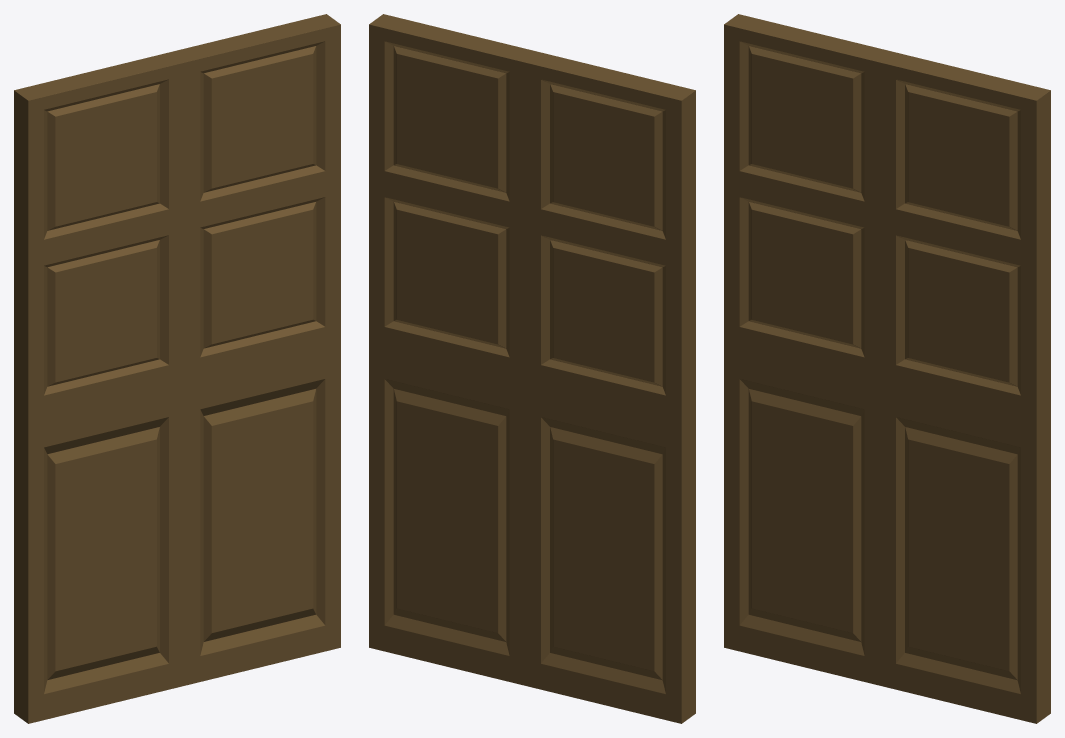
File: door_exportprep.gltf
3 renders of one model, left to right at view 1: azimuth 30°, elevation 25°; view 2: azimuth 150°, elevation 25°; view 3: azimuth 330°, elevation 25°, orthographic.
Visible parts, largest first — view 1: Door; view 2: Door; view 3: Door.
Part boxes in pixels (x1,y1,x2,y2): Door: (14, 14, 340, 723); Door: (369, 14, 695, 723); Door: (724, 14, 1050, 723).
Bounding box in the file's own units: 1.26 × 2.4 × 0.1.
